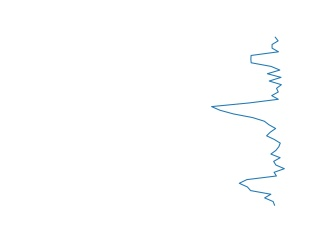underwaterNaturalLevee: (207, 38, 289, 207)
